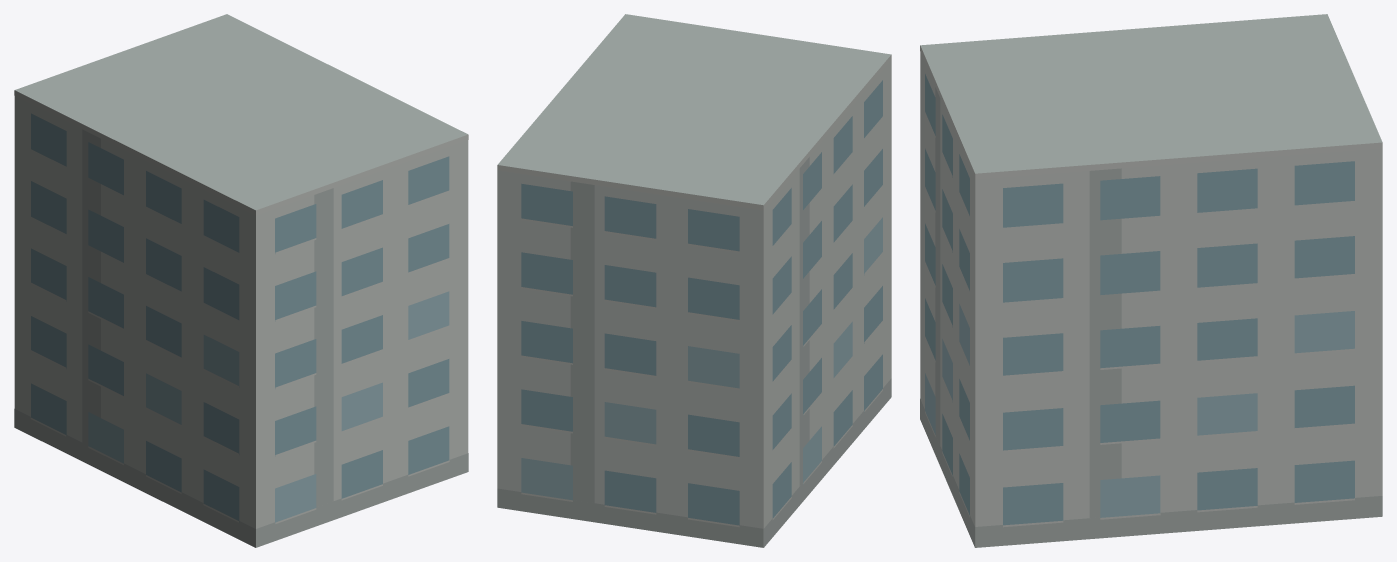
File: residential-98e0e9f8-3c10-44e1-82ab-907a8510831c.glb
3 views of the same model, side by side, from view 1: azimuth 30°, elevation 25°; view 2: azimuth 150°, elevation 25°; view 3: azimuth 270°, elevation 25° (orthographic). The views are drawn at different scales.
Parts seen in each view (by area): view 1: residential-98e0e9f8-3c10-44e1-82ab-907a8510831c.tmp; view 2: residential-98e0e9f8-3c10-44e1-82ab-907a8510831c.tmp; view 3: residential-98e0e9f8-3c10-44e1-82ab-907a8510831c.tmp.
Part boxes in pixels (x1,y1,x2,y2): residential-98e0e9f8-3c10-44e1-82ab-907a8510831c.tmp: [14, 14, 468, 547]; residential-98e0e9f8-3c10-44e1-82ab-907a8510831c.tmp: [497, 14, 891, 547]; residential-98e0e9f8-3c10-44e1-82ab-907a8510831c.tmp: [920, 14, 1382, 547].
Bounding box in the file's own units: 13.96 × 15.25 × 17.09.
